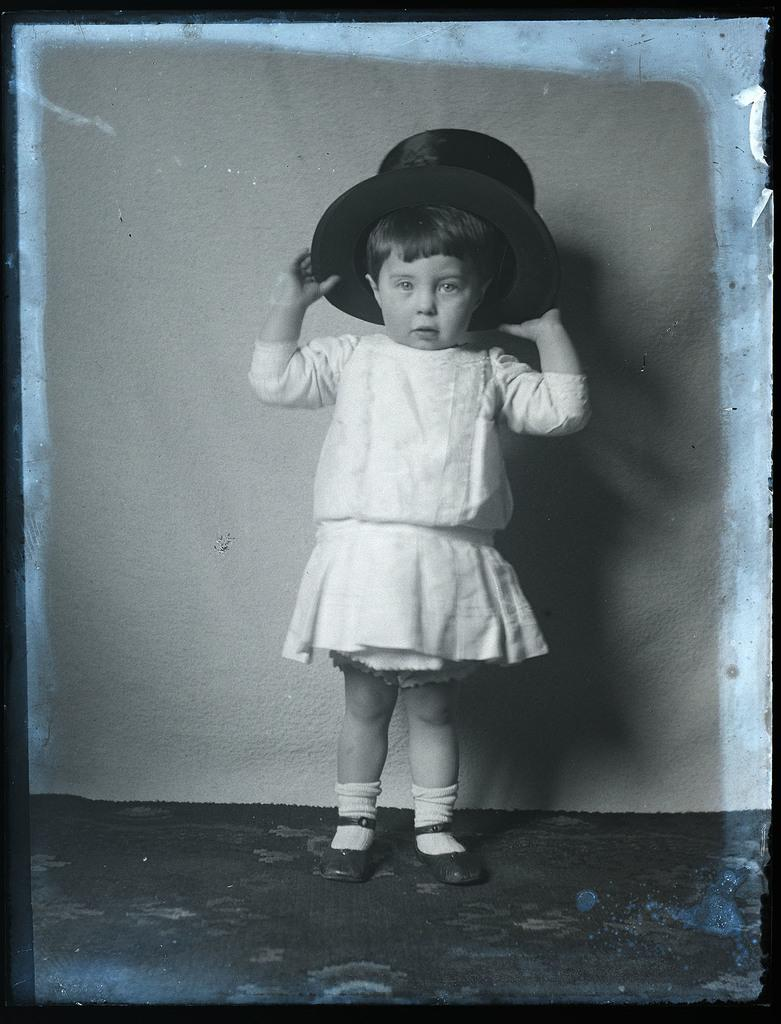Hat: (310, 134, 557, 338)
